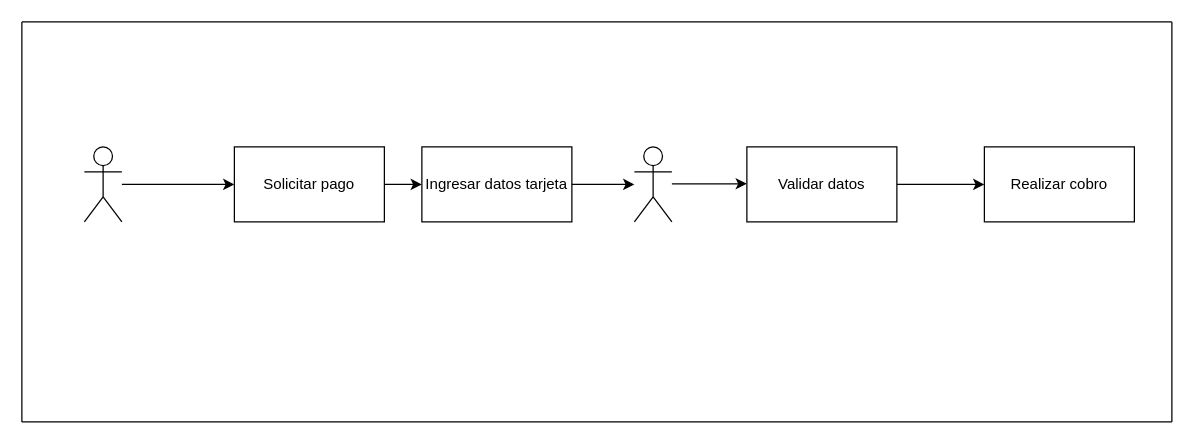
Image size: 1195x445. Some labels were removed from this diagram. Here are the shapes that lost their labels. From the top down, the centre of each, then its label:
At point 102,184: "Cliente".
At point 652,184: "Banco".
